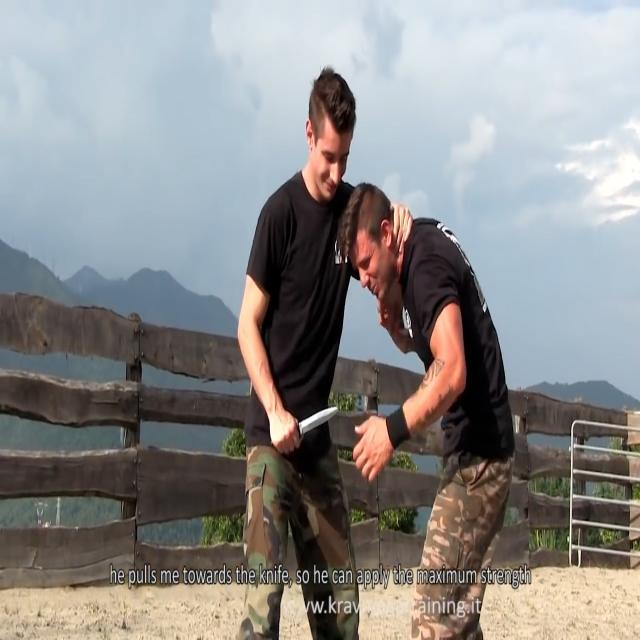knife: (300, 401, 340, 443)
